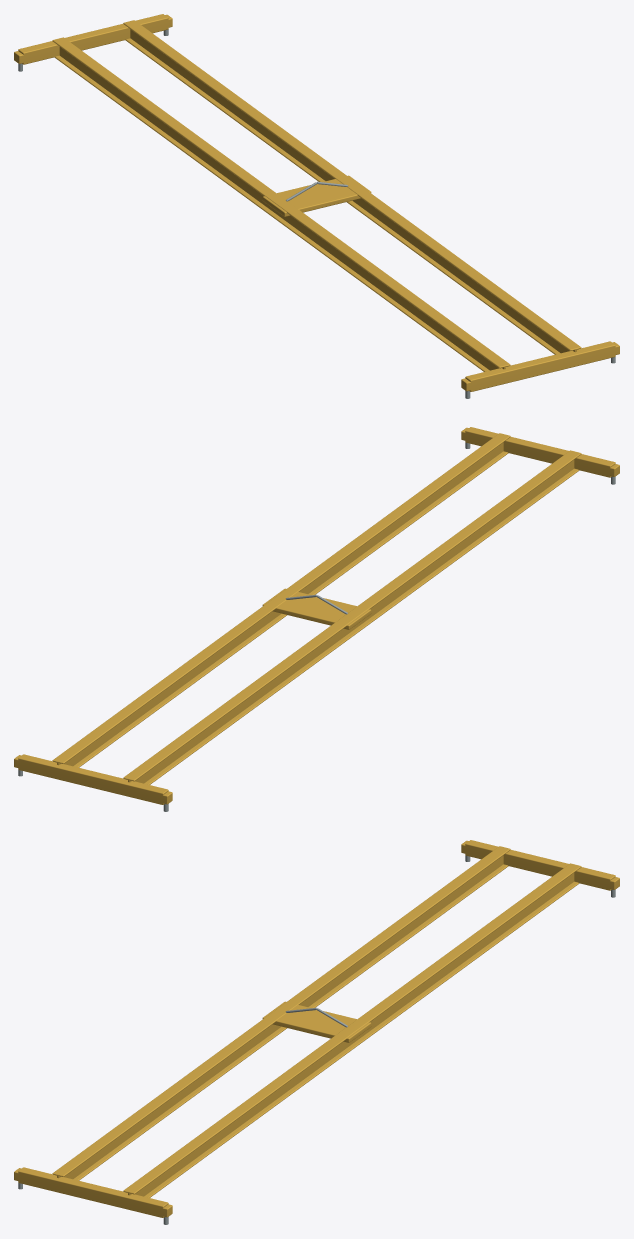
The model's file is container_40ft_spreader.glb.
The picture shows the model from 3 angles, top to bottom: view 1: azimuth 30°, elevation 25°; view 2: azimuth 150°, elevation 25°; view 3: azimuth 330°, elevation 25°; orthographic projection.
Visible parts, largest first — view 1: container_40ft_spreader Fixed_LiftingFrame.001; view 2: container_40ft_spreader Fixed_LiftingFrame.001; view 3: container_40ft_spreader Fixed_LiftingFrame.001.
Boxes of the visible parts, left/top/right/bottom form: container_40ft_spreader Fixed_LiftingFrame.001: left=14, top=14, right=619, bottom=391; container_40ft_spreader Fixed_LiftingFrame.001: left=14, top=427, right=619, bottom=804; container_40ft_spreader Fixed_LiftingFrame.001: left=14, top=840, right=619, bottom=1217.
Bounding box in the file's own units: 2.39 × 0.5108 × 12.18.
